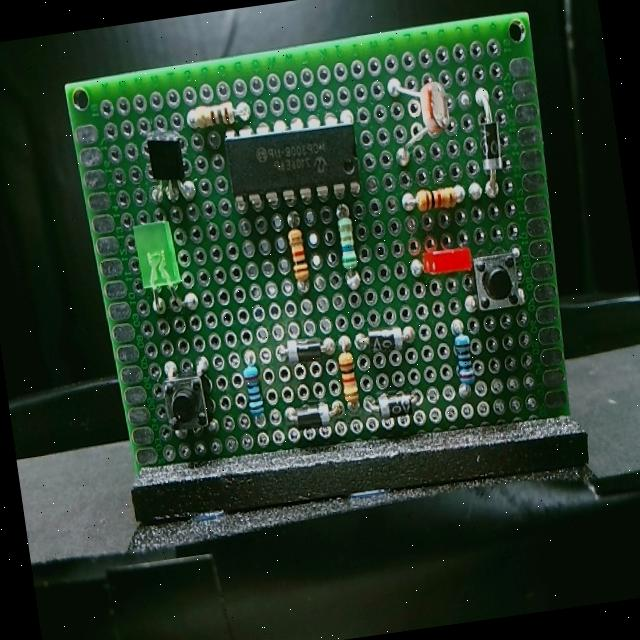IC: (218, 116, 374, 209)
cds: (414, 78, 458, 138)
diode: (474, 100, 509, 184), (282, 396, 337, 446), (278, 328, 334, 374), (357, 317, 409, 361), (369, 390, 418, 424)
led: (126, 213, 188, 303), (424, 238, 475, 284)
resistor: (394, 172, 468, 220), (236, 355, 278, 435), (331, 204, 372, 284), (283, 216, 322, 294), (442, 321, 476, 391), (334, 334, 362, 416), (184, 92, 238, 130)
switch: (160, 359, 216, 448), (468, 245, 526, 315)
transistor: (140, 128, 194, 208)
